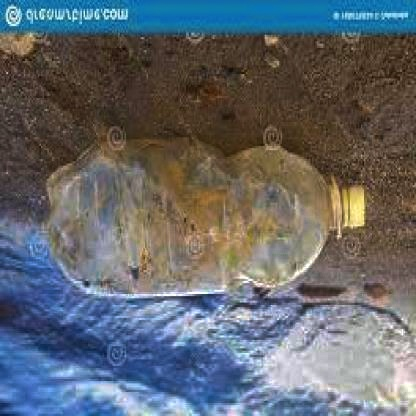pbottle: (35, 131, 370, 307)
